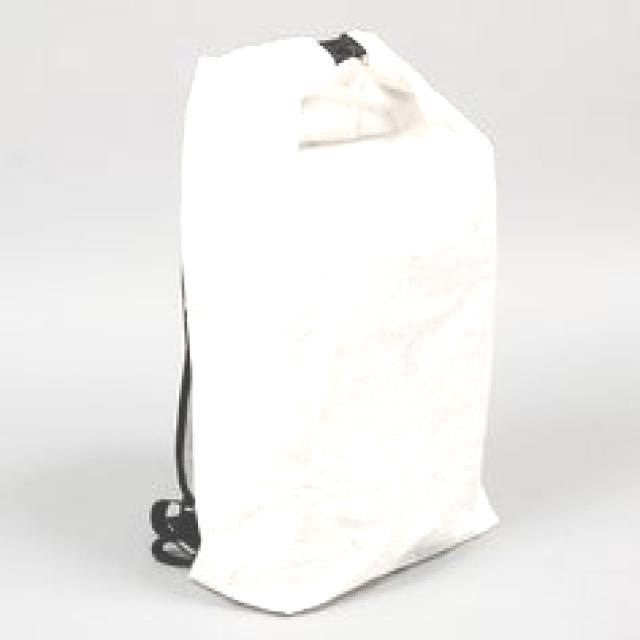backpack: (148, 27, 500, 615)
